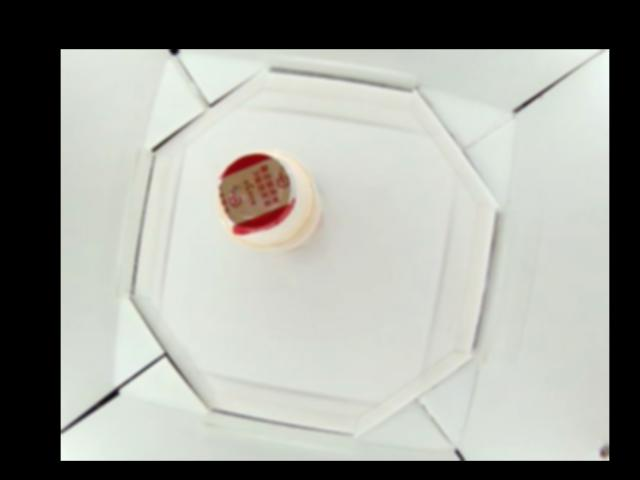Bottle: (217, 149, 321, 252)
